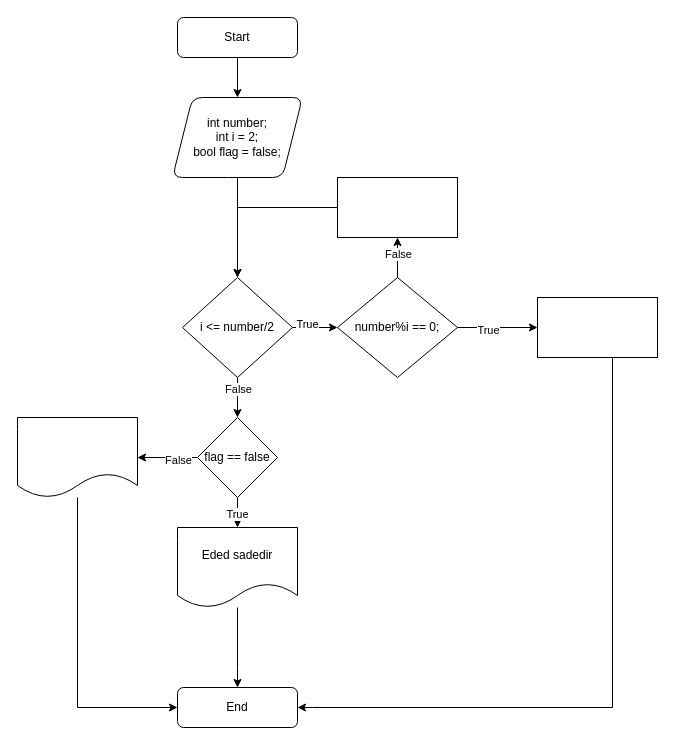
Image size: 675x745. Some labels were removed from this diagram. The box of each missing label's shape, as (x1, y1, x2, y2) in pixels:
Eded Murekkebdir: (16, 416, 138, 498)
flag = true; break;: (536, 296, 658, 358)
i++;: (336, 176, 458, 238)
